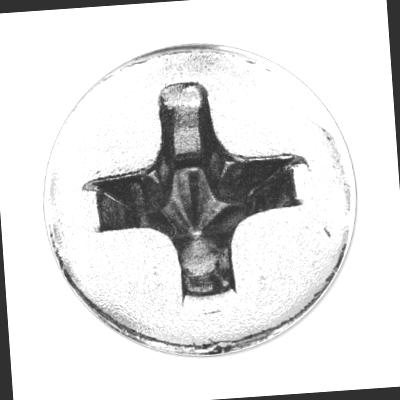slotted: (33, 33, 373, 365)
